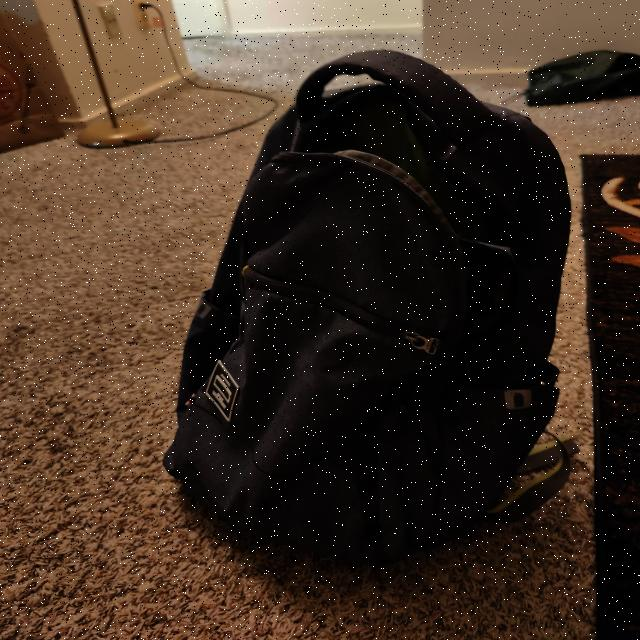bag: (162, 50, 548, 558)
